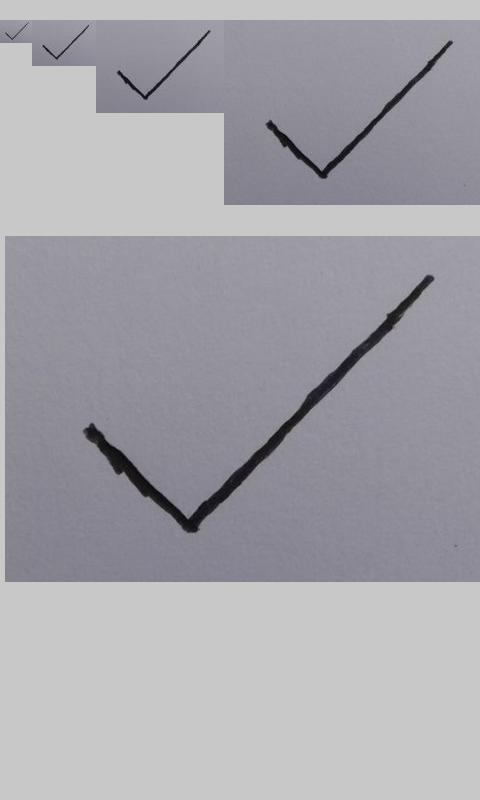check_box: (84, 276, 435, 535), (266, 40, 452, 179), (116, 31, 208, 100), (43, 25, 89, 59), (5, 23, 27, 40)
